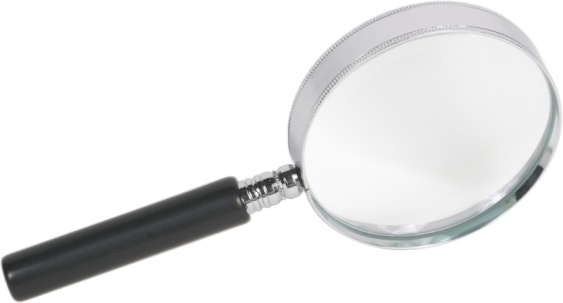magnifying-glass: (238, 5, 558, 261)
